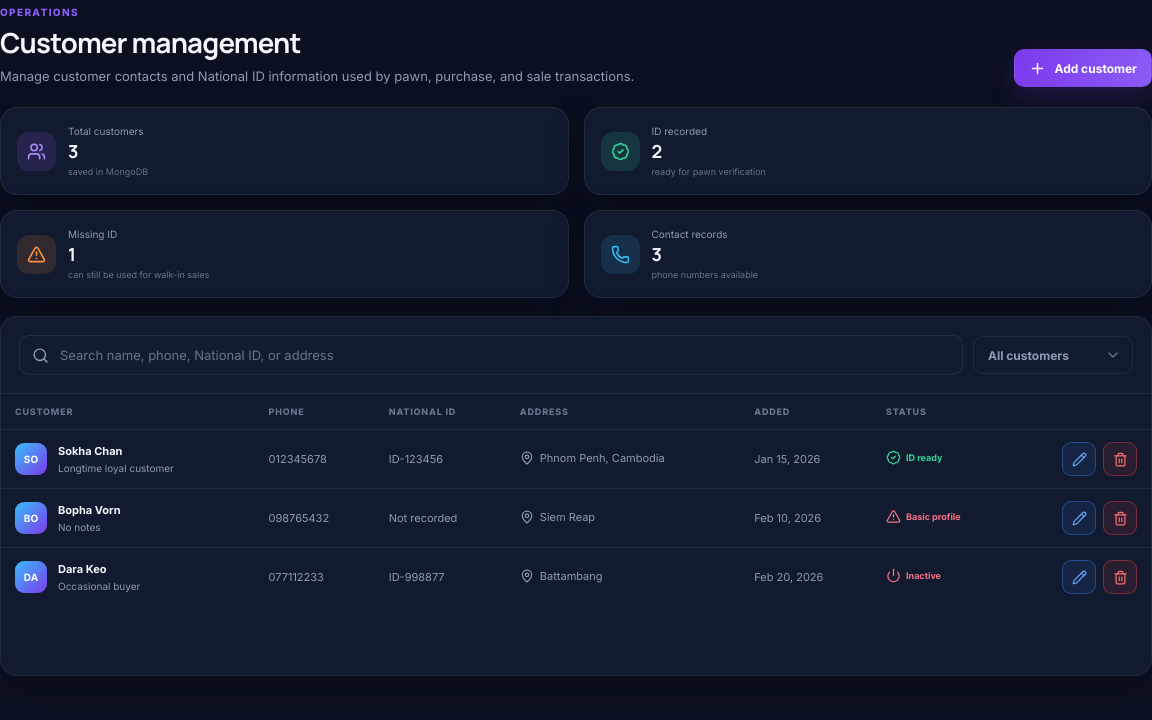
Scenario: CustomerPage Regression & Workflow Tests › 9. Failed deletion keeps record visible and shows error inside the dialog
The width and height of the screenshot is (1152, 720).
Check: the text "Sokha Chan" is shown, box 58,444 -> 122,458
Click the button named "Delete Sokha Chan". click: [1120, 459]
box: 1103,442 -> 1137,476
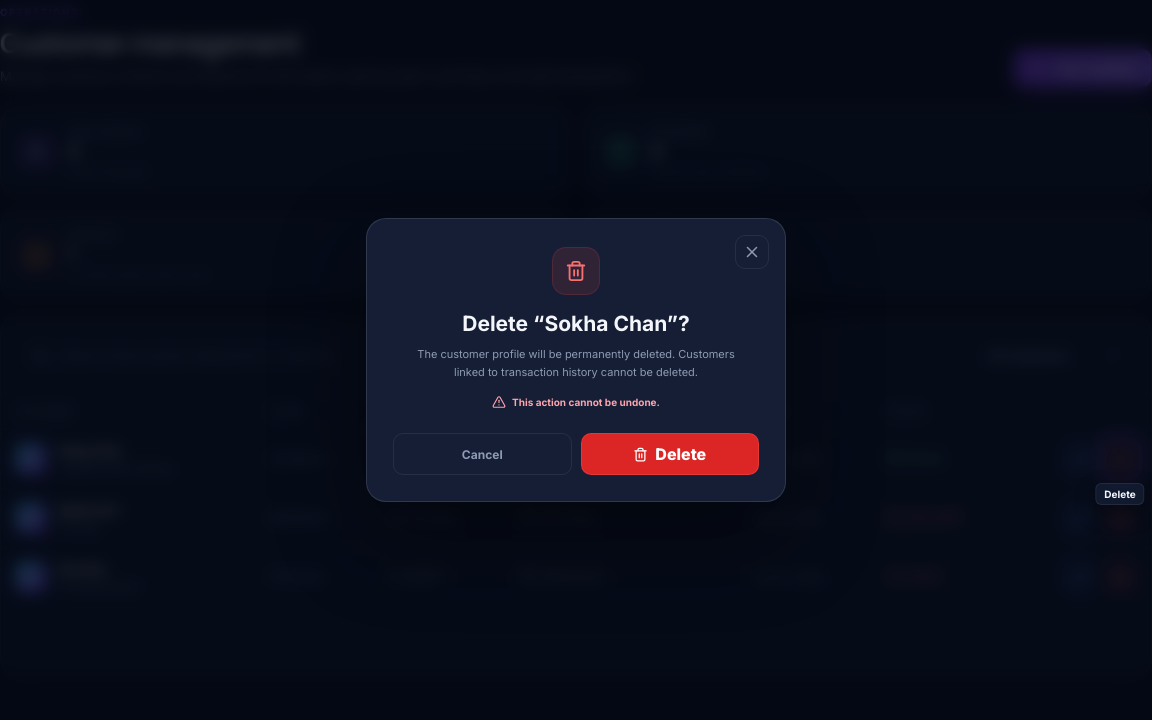
Click the button "Delete". click: [670, 454]
box: 580,433 -> 759,475
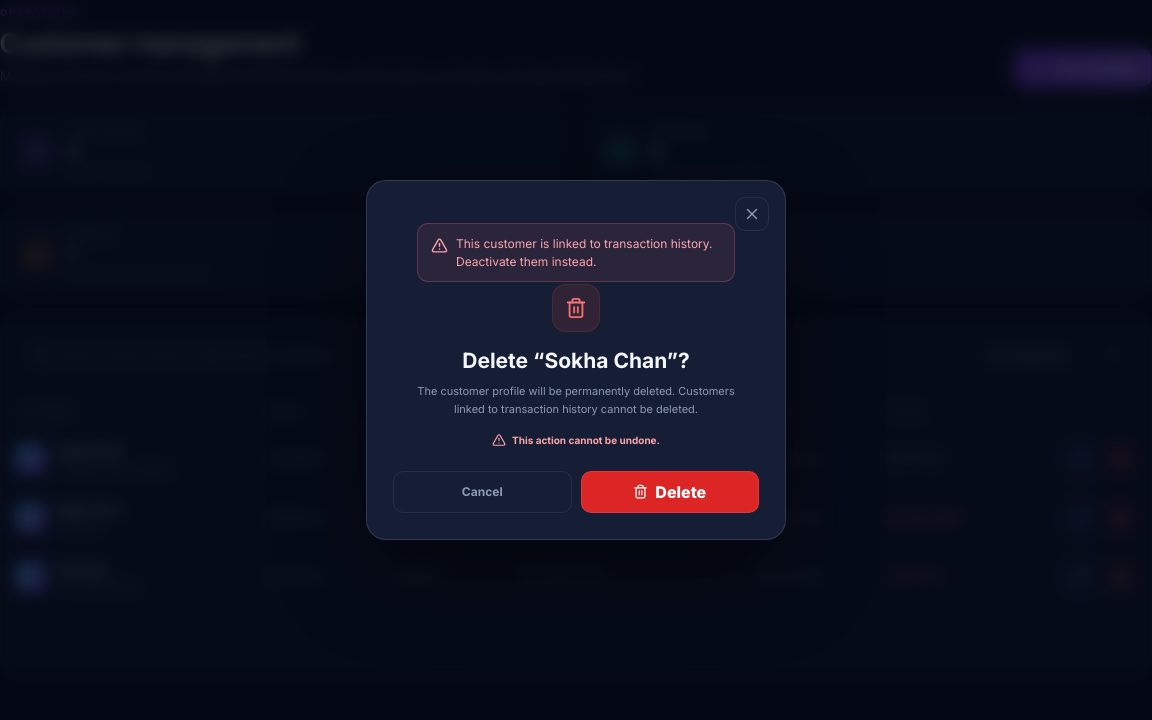
Check: the dialog is shown, box 366,180 -> 786,540
Check: the text "This customer is linked to transaction history" is shown, box 456,236 -> 712,269
